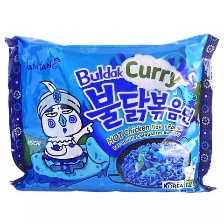snack: (0, 28, 224, 199)
